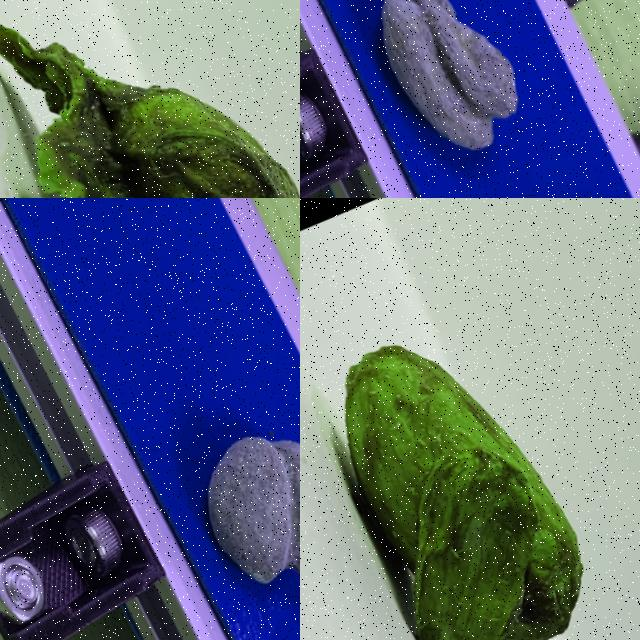Agglomerated_cocoabeans: (300, 233, 639, 639), (300, 0, 610, 197), (118, 311, 299, 639), (0, 0, 299, 197)
